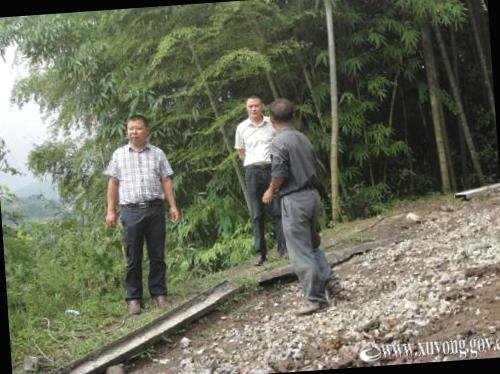no_helmet: (122, 110, 156, 148), (269, 94, 299, 129), (242, 88, 270, 122)
